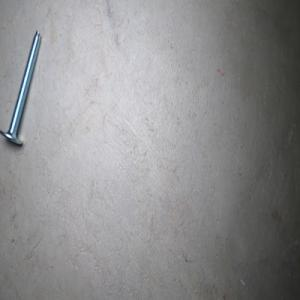Bolt: (0, 29, 41, 146)
